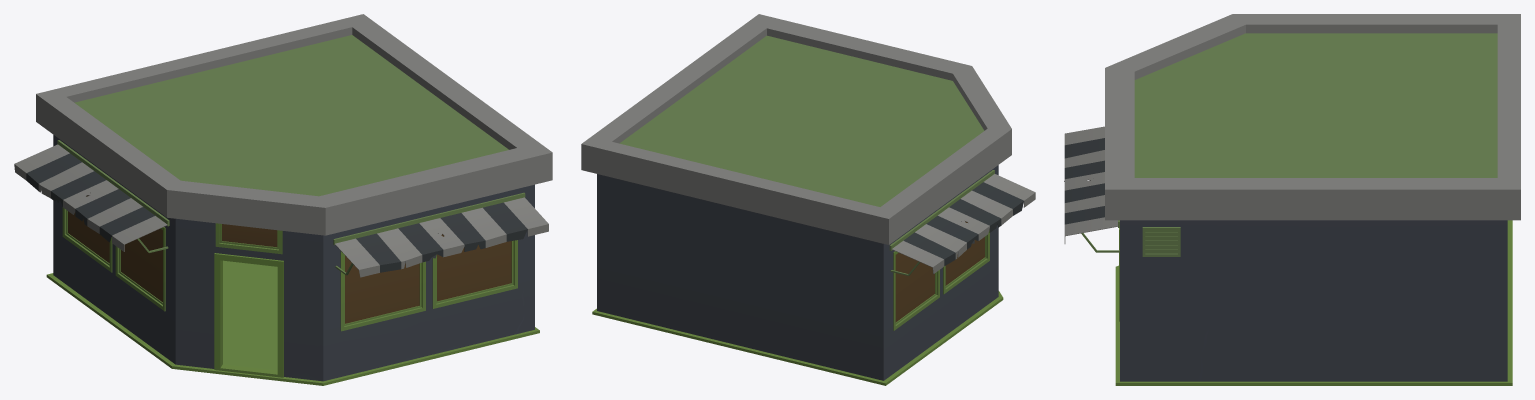
File: SmallHouse_15.fbx
3 views of the same model, side by side, from view 1: azimuth 30°, elevation 25°; view 2: azimuth 150°, elevation 25°; view 3: azimuth 270°, elevation 25° (orthographic). The views are drawn at different scales.
Parts seen in each view (by area): view 1: SmallHouse_15; view 2: SmallHouse_15; view 3: SmallHouse_15.
Boxes of the visible parts, x1,y1,x2,y2 form: SmallHouse_15: [14, 14, 552, 385]; SmallHouse_15: [581, 14, 1035, 385]; SmallHouse_15: [1064, 14, 1520, 385].
Size of the model in its own units: 7.12 by 3.42 by 7.07.
